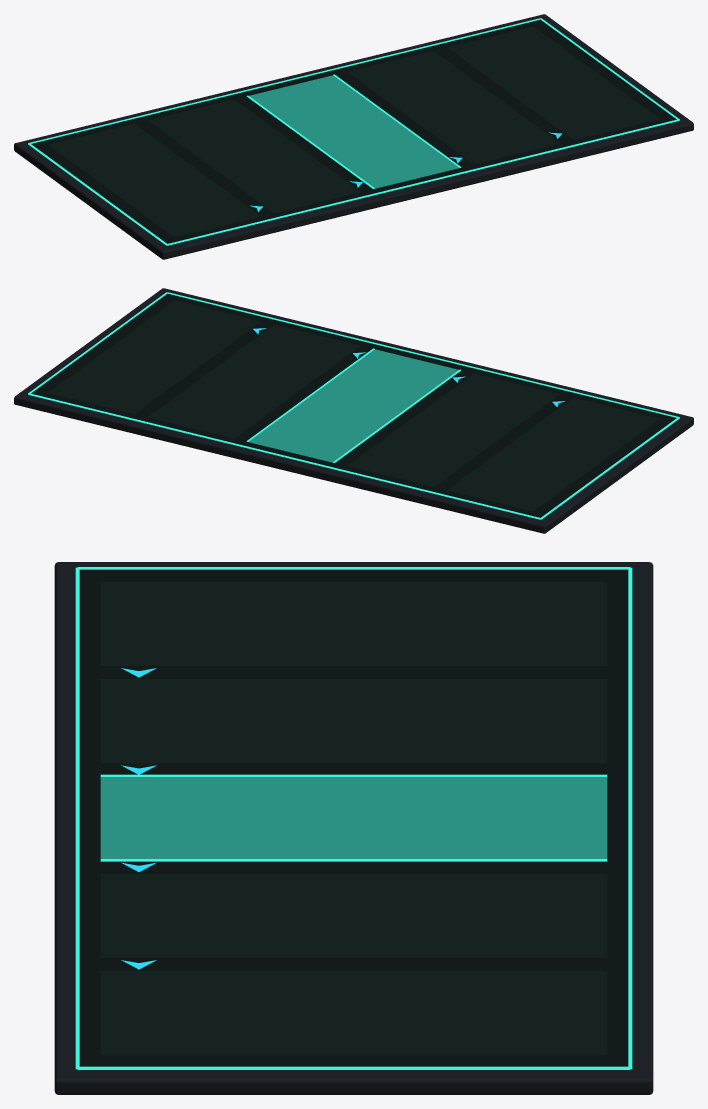
File: lineage.glb
3 renders of one model, top to bottom at view 1: azimuth 30°, elevation 25°; view 2: azimuth 150°, elevation 25°; view 3: azimuth 270°, elevation 25°, orthographic. The views are drawn at different scales.
Parts seen in each view (by area): view 1: Lineage_Ground, Lineage_Plate, Lineage_Lane_0, Lineage_Lane_1, Lineage_Lane_3, Lineage_Lane_4, Lineage_Lane_2, Lineage_Edge; view 2: Lineage_Ground, Lineage_Plate, Lineage_Lane_0, Lineage_Lane_1, Lineage_Lane_3, Lineage_Lane_4, Lineage_Lane_2, Lineage_Edge; view 3: Lineage_Ground, Lineage_Lane_0, Lineage_Lane_3, Lineage_Lane_1, Lineage_Lane_4, Lineage_Lane_2, Lineage_Plate, Lineage_Edge.
Part boxes in pixels (<box>): Lineage_Ground: <box>31,19,676,243</box>; Lineage_Plate: <box>14,14,693,259</box>; Lineage_Lane_0: <box>48,123,260,237</box>; Lineage_Lane_1: <box>148,99,360,213</box>; Lineage_Lane_3: <box>347,51,559,164</box>; Lineage_Lane_4: <box>447,26,659,140</box>; Lineage_Lane_2: <box>249,75,459,188</box>; Lineage_Edge: <box>28,18,679,245</box>; Lineage_Ground: <box>31,293,676,517</box>; Lineage_Plate: <box>14,288,693,533</box>; Lineage_Lane_0: <box>447,397,659,511</box>; Lineage_Lane_1: <box>347,373,559,487</box>; Lineage_Lane_3: <box>148,325,360,438</box>; Lineage_Lane_4: <box>48,300,260,414</box>; Lineage_Lane_2: <box>248,349,458,462</box>; Lineage_Edge: <box>28,292,679,519</box>; Lineage_Ground: <box>79,569,628,1066</box>; Lineage_Lane_0: <box>100,581,607,666</box>; Lineage_Lane_3: <box>100,873,607,958</box>; Lineage_Lane_1: <box>100,679,607,763</box>; Lineage_Lane_4: <box>100,971,607,1055</box>; Lineage_Lane_2: <box>100,777,607,858</box>; Lineage_Plate: <box>54,562,653,1094</box>; Lineage_Edge: <box>75,567,632,1069</box>.
Size of the model in its own units: 8 by 0.139 by 3.9.
